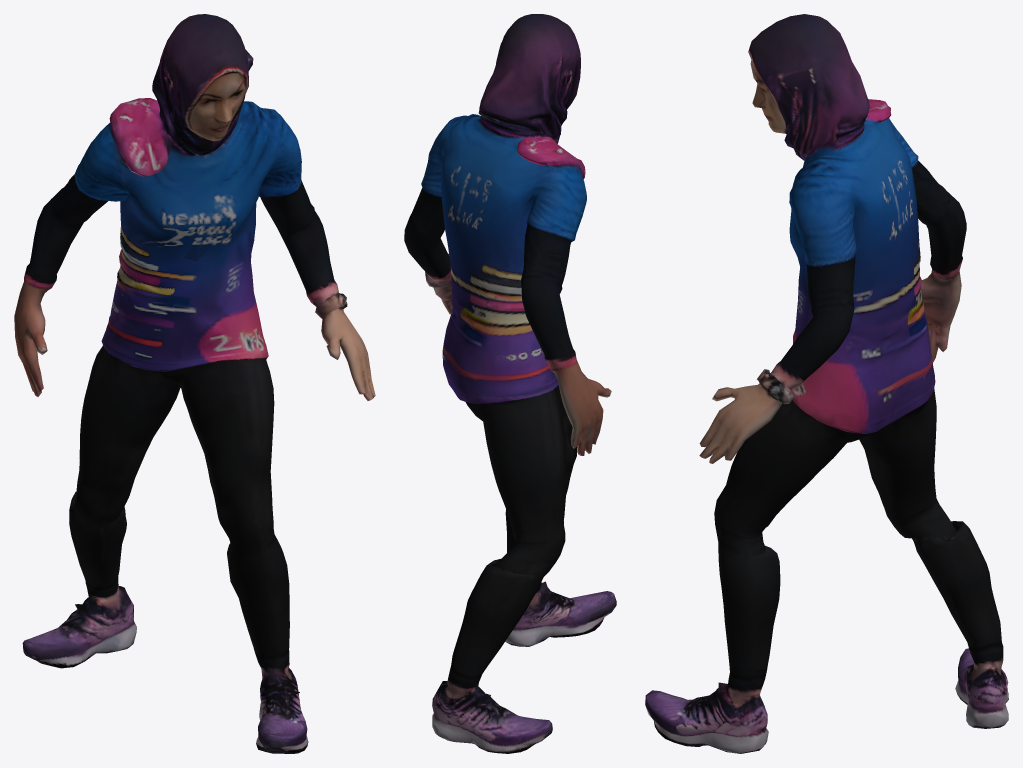
The model's file is half_3_idle.glb.
The picture shows the model from 3 angles, left to right: view 1: azimuth 30°, elevation 25°; view 2: azimuth 150°, elevation 25°; view 3: azimuth 270°, elevation 25°; orthographic projection. The views are drawn at different scales.
Visible parts, largest first — view 1: Idle; view 2: Idle; view 3: Idle.
Part boxes in pixels (x1,y1,x2,y2): Idle: (14, 14, 375, 753); Idle: (404, 14, 616, 753); Idle: (645, 14, 1008, 753).
Bounding box in the file's own units: 37.08 × 94.99 × 44.21.
Materials: 1 (1 with a texture image).
